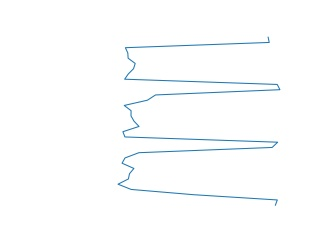majorRiverChannelBar: (116, 36, 284, 206)
